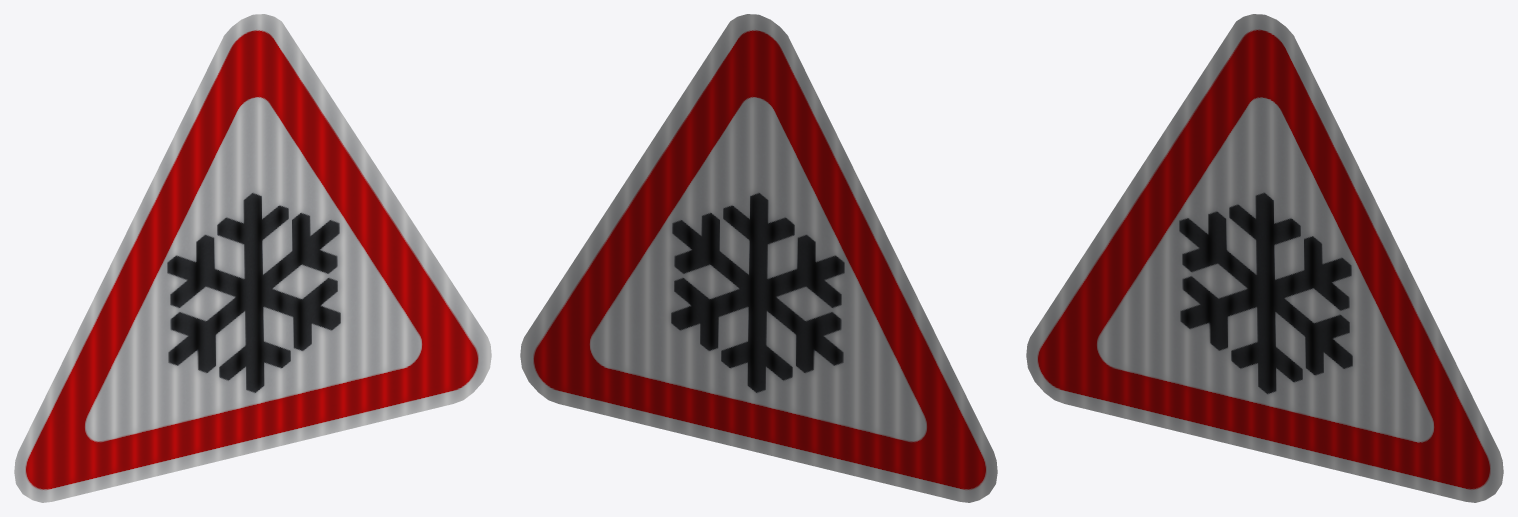
Rendered from Sign_Icy.fbx.
The picture shows the model from 3 angles, left to right: view 1: azimuth 30°, elevation 25°; view 2: azimuth 150°, elevation 25°; view 3: azimuth 330°, elevation 25°; orthographic projection.
Parts seen in each view (by area): view 1: Polygonal_Geometry; view 2: Polygonal_Geometry; view 3: Polygonal_Geometry.
Part boxes in pixels (left/top/right/bottom): Polygonal_Geometry: left=14, top=14, right=491, bottom=502; Polygonal_Geometry: left=520, top=14, right=997, bottom=502; Polygonal_Geometry: left=1026, top=14, right=1503, bottom=502.
Size of the model in its own units: 3.81 by 3.34 by 0.
